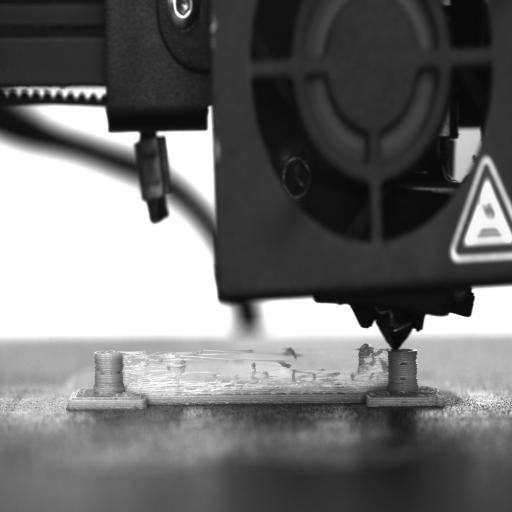spaghetti_and_stringing: (140, 348, 307, 390)
